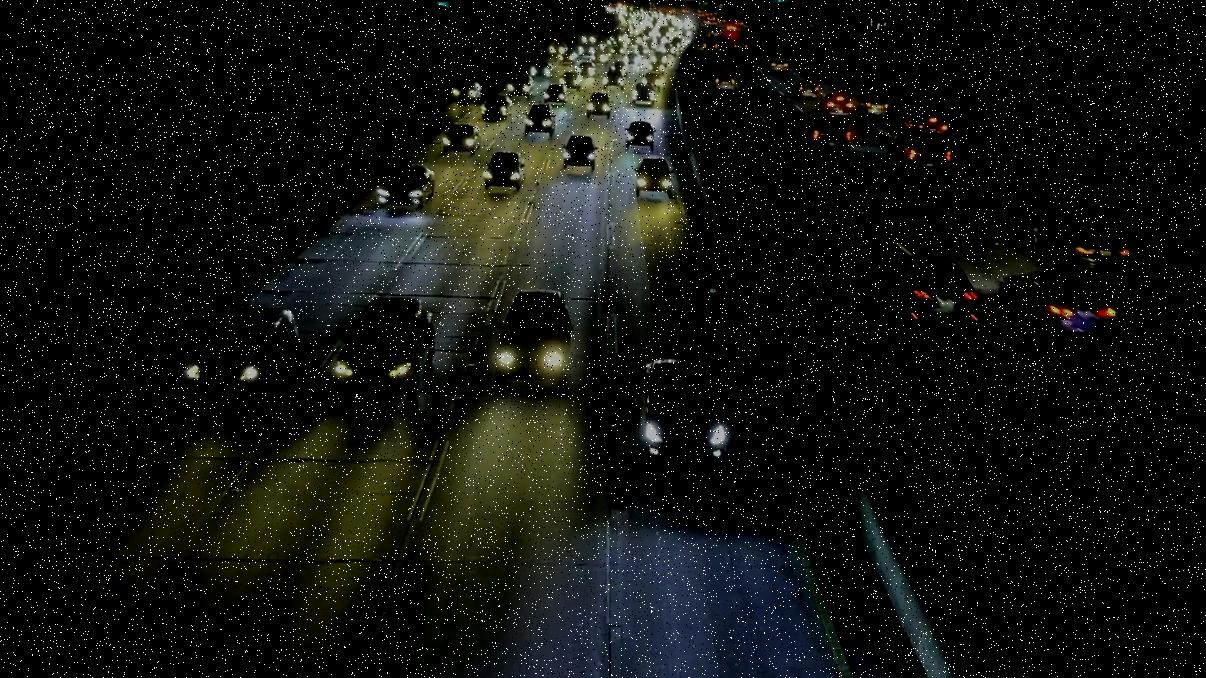car: (623, 349, 745, 460), (179, 302, 302, 407), (331, 294, 444, 406), (878, 259, 986, 341), (484, 294, 579, 384), (997, 274, 1115, 341), (1034, 222, 1129, 271), (886, 133, 951, 178), (376, 165, 434, 211), (631, 154, 677, 197), (800, 114, 853, 150), (483, 150, 528, 188), (441, 123, 485, 154), (560, 136, 599, 170), (522, 104, 557, 136), (624, 118, 656, 152), (819, 92, 857, 119), (584, 91, 612, 118), (483, 95, 513, 120), (861, 94, 892, 117), (789, 79, 822, 100), (510, 73, 536, 96), (710, 73, 737, 95), (542, 83, 572, 102), (764, 57, 792, 73)
